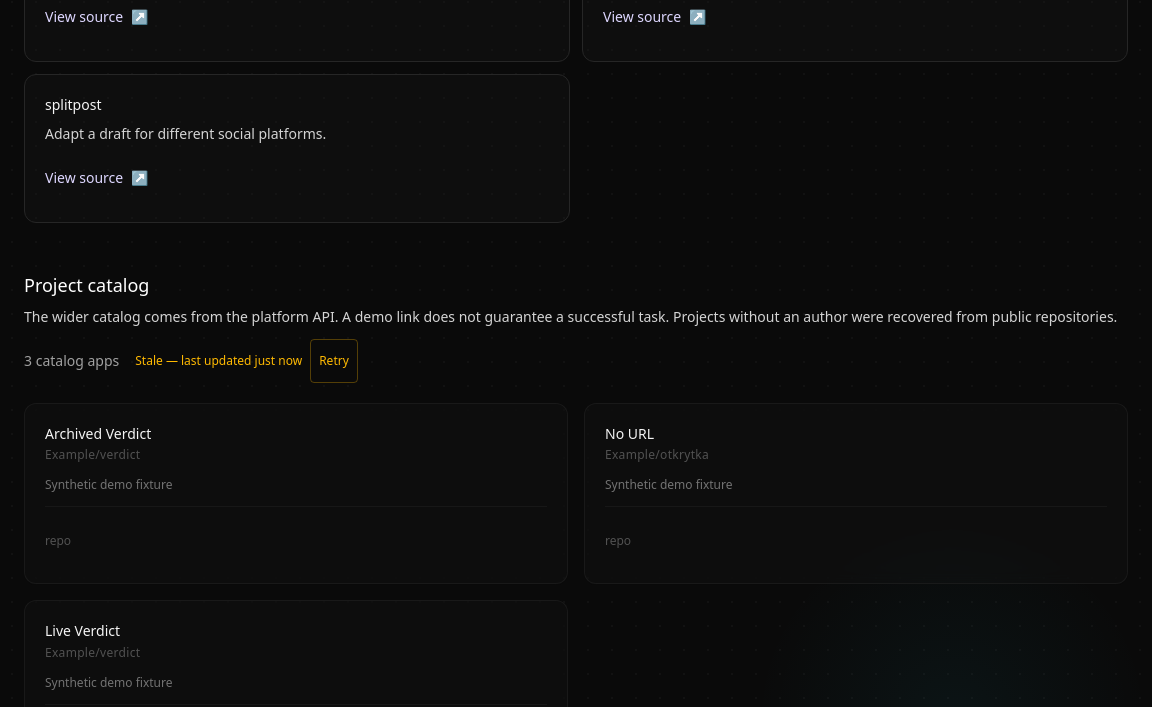
it: Showcase service selection › retains catalog data and service links when a subsequent poll fails, then retries
(page scrolled)
expect the heading "Live Verdict" is shown: met, box [45,621,120,640]
Click the button "Retry".
click(334, 360)  # box [310,338,358,382]
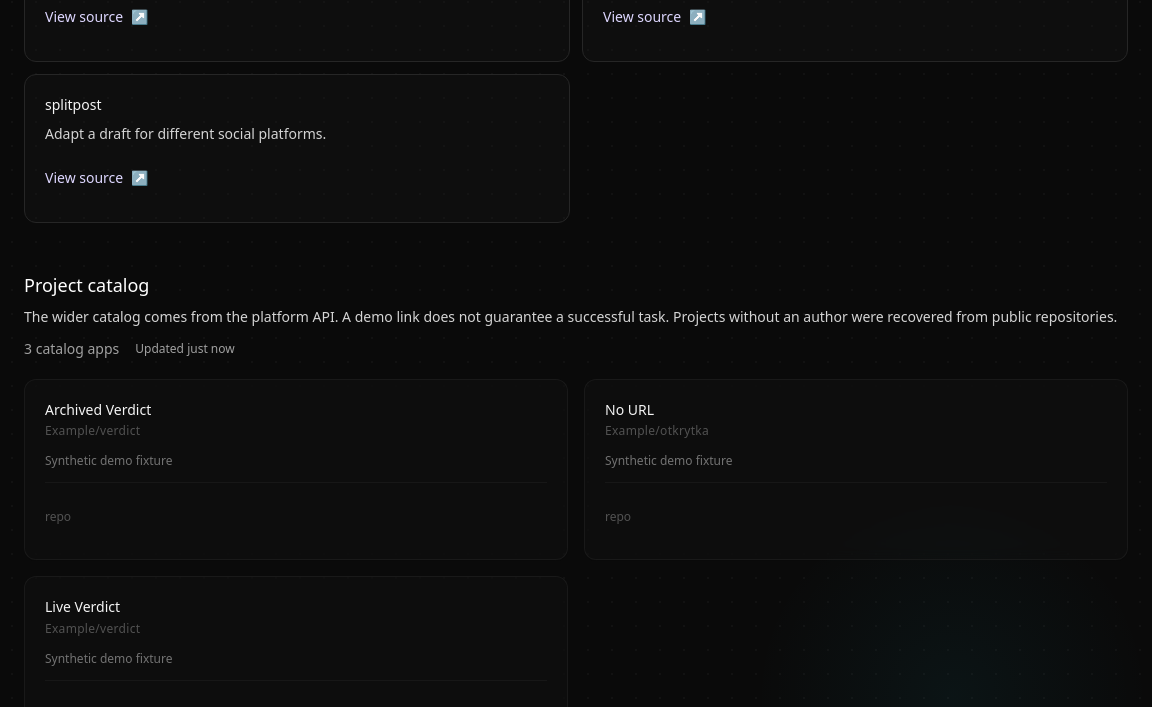
expect the message "Stale — last updated just now Retry" is gone: met
